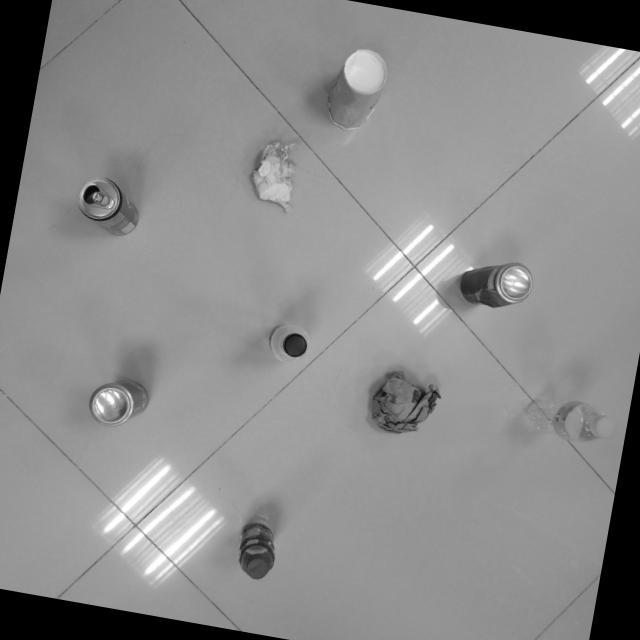recyclable waste: (316, 35, 396, 138), (516, 384, 626, 454), (362, 361, 451, 443), (66, 165, 154, 246), (449, 248, 540, 320), (242, 128, 308, 220), (80, 367, 156, 437), (227, 516, 283, 586), (260, 312, 320, 373)
